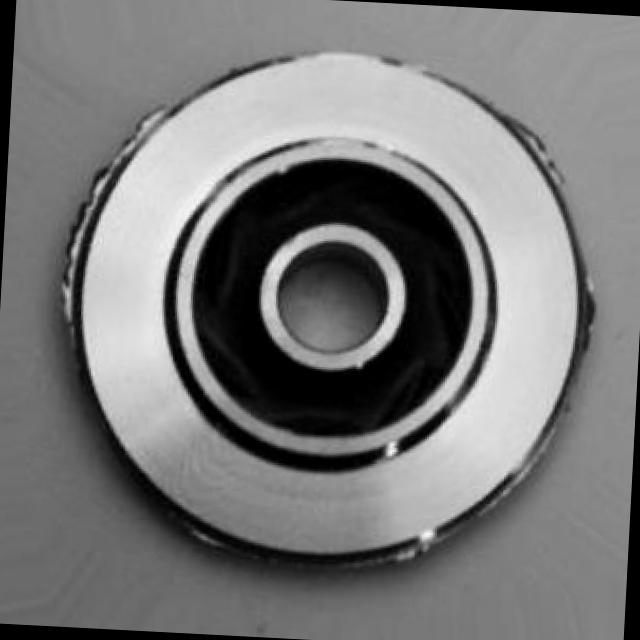Defect: (572, 261, 610, 363)
